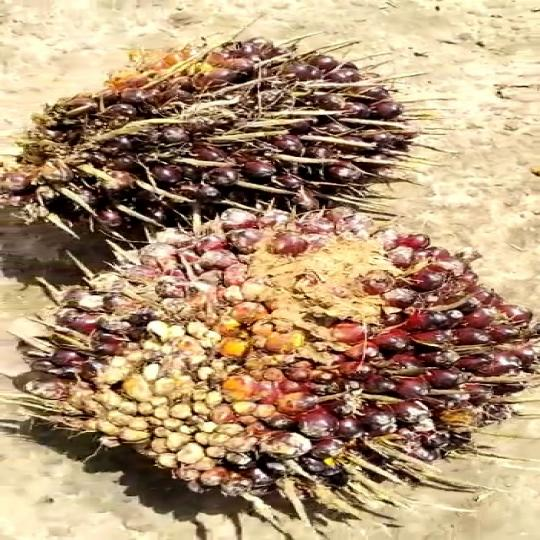kurang masak: (0, 211, 525, 515), (0, 39, 399, 243)
